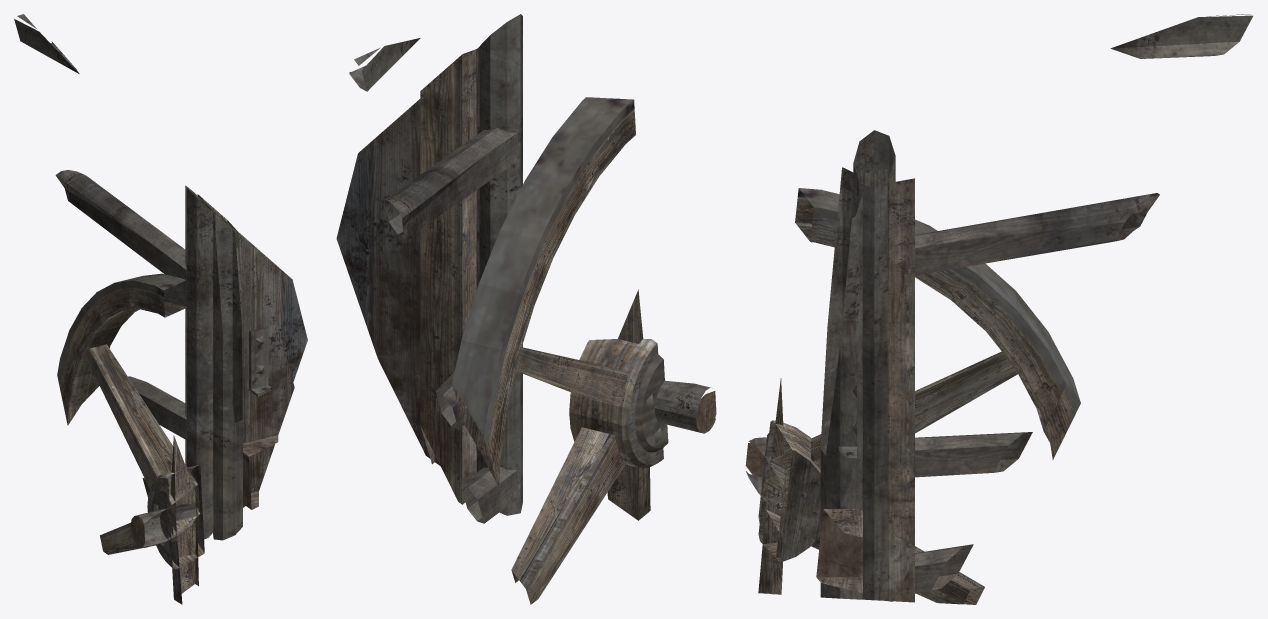
Rendered from Wagon3_10.fbx.
3 views of the same model, side by side, from view 1: azimuth 30°, elevation 25°; view 2: azimuth 150°, elevation 25°; view 3: azimuth 270°, elevation 25° (orthographic). The views are drawn at different scales.
Visible parts, largest first — view 1: SM_Wagon03_DM.010; view 2: SM_Wagon03_DM.010; view 3: SM_Wagon03_DM.010.
Boxes of the visible parts, left/top/right/bottom form: SM_Wagon03_DM.010: left=14, top=14, right=307, bottom=604; SM_Wagon03_DM.010: left=336, top=14, right=716, bottom=604; SM_Wagon03_DM.010: left=745, top=14, right=1252, bottom=604.
Bounding box in the file's own units: 6135 × 12378 × 9417.
Materials: 2 (2 with a texture image).
